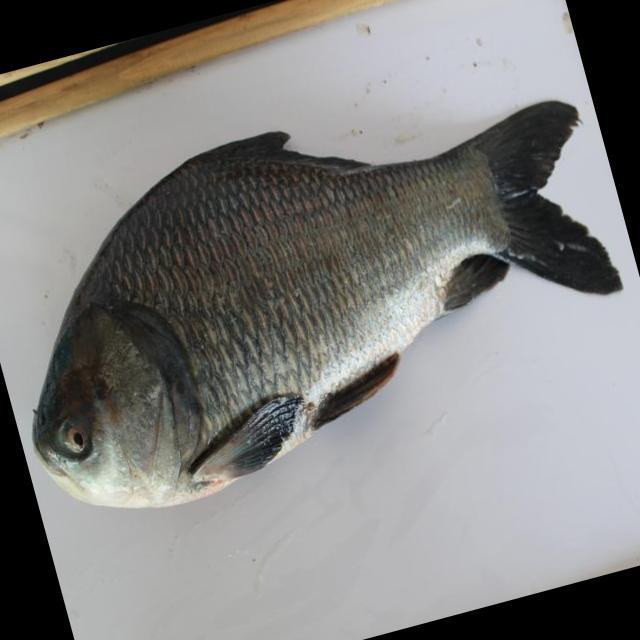Catla: (27, 101, 620, 497)
